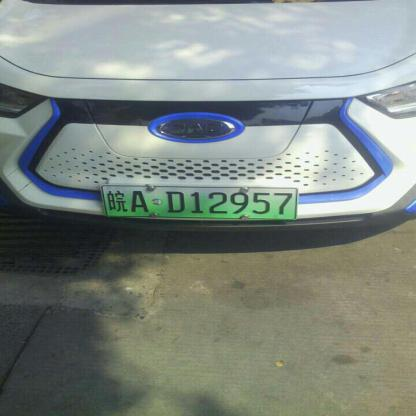lp: (100, 186, 298, 219)
